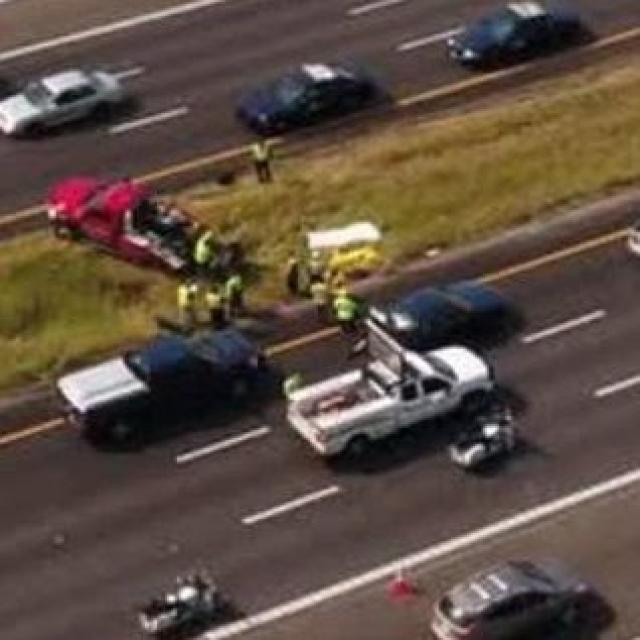traffic_incident: (51, 162, 240, 286)
